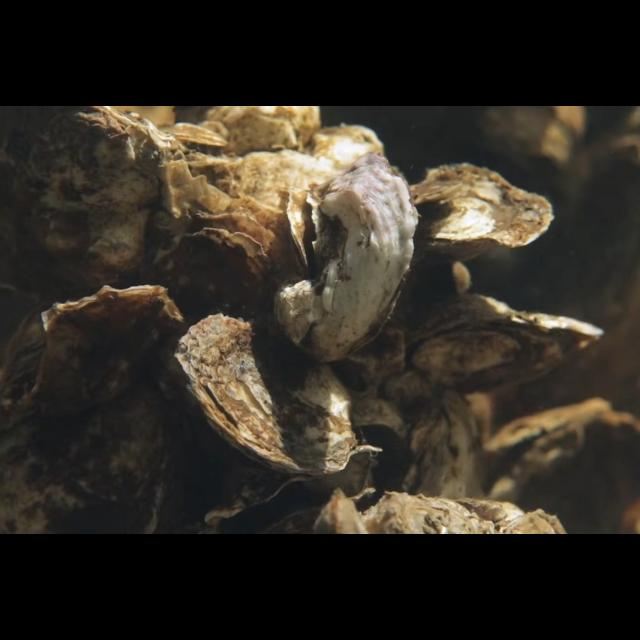Oyster-Closed: (0, 107, 216, 361), (0, 285, 184, 535), (172, 312, 358, 478), (274, 152, 418, 364), (408, 163, 556, 271), (397, 390, 493, 534), (150, 226, 276, 328)
Oyster-Open: (482, 400, 640, 534), (405, 294, 605, 394), (203, 446, 383, 534)
